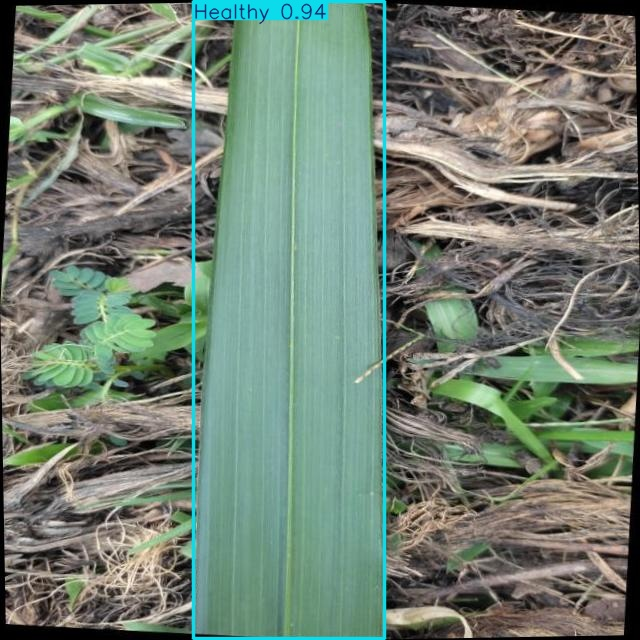Healthy: (194, 1, 385, 639)
